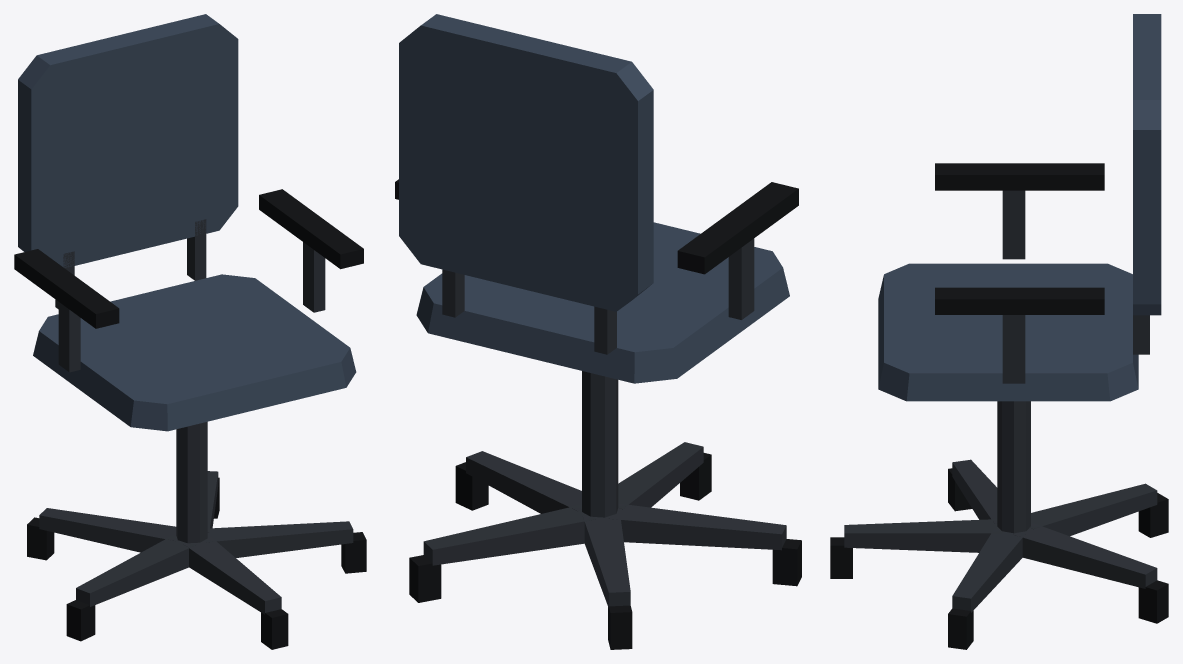
The model's file is Office_Chair.glb.
3 views of the same model, side by side, from view 1: azimuth 30°, elevation 25°; view 2: azimuth 150°, elevation 25°; view 3: azimuth 270°, elevation 25° (orthographic). The views are drawn at different scales.
Visible parts, largest first — view 1: Office_Chair; view 2: Office_Chair; view 3: Office_Chair.
Boxes of the visible parts, x1,y1,x2,y2 form: Office_Chair: (14, 14, 366, 649); Office_Chair: (395, 14, 801, 649); Office_Chair: (830, 14, 1168, 649).
Bounding box in the file's own units: 0.629 × 1.01 × 0.5982.
